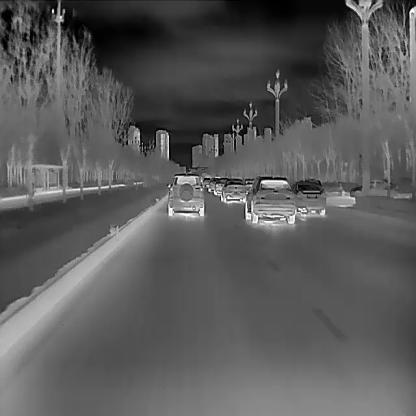car: (244, 172, 296, 223), (165, 171, 205, 216), (291, 177, 327, 219), (346, 177, 398, 198), (219, 177, 246, 202), (213, 176, 226, 194), (206, 174, 218, 191), (243, 176, 255, 190), (202, 176, 209, 188)
